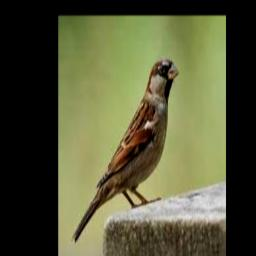Sparrow: (71, 60, 179, 243)
